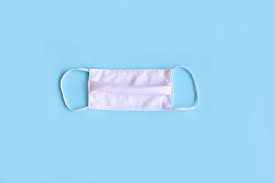mask: (53, 57, 204, 127)
